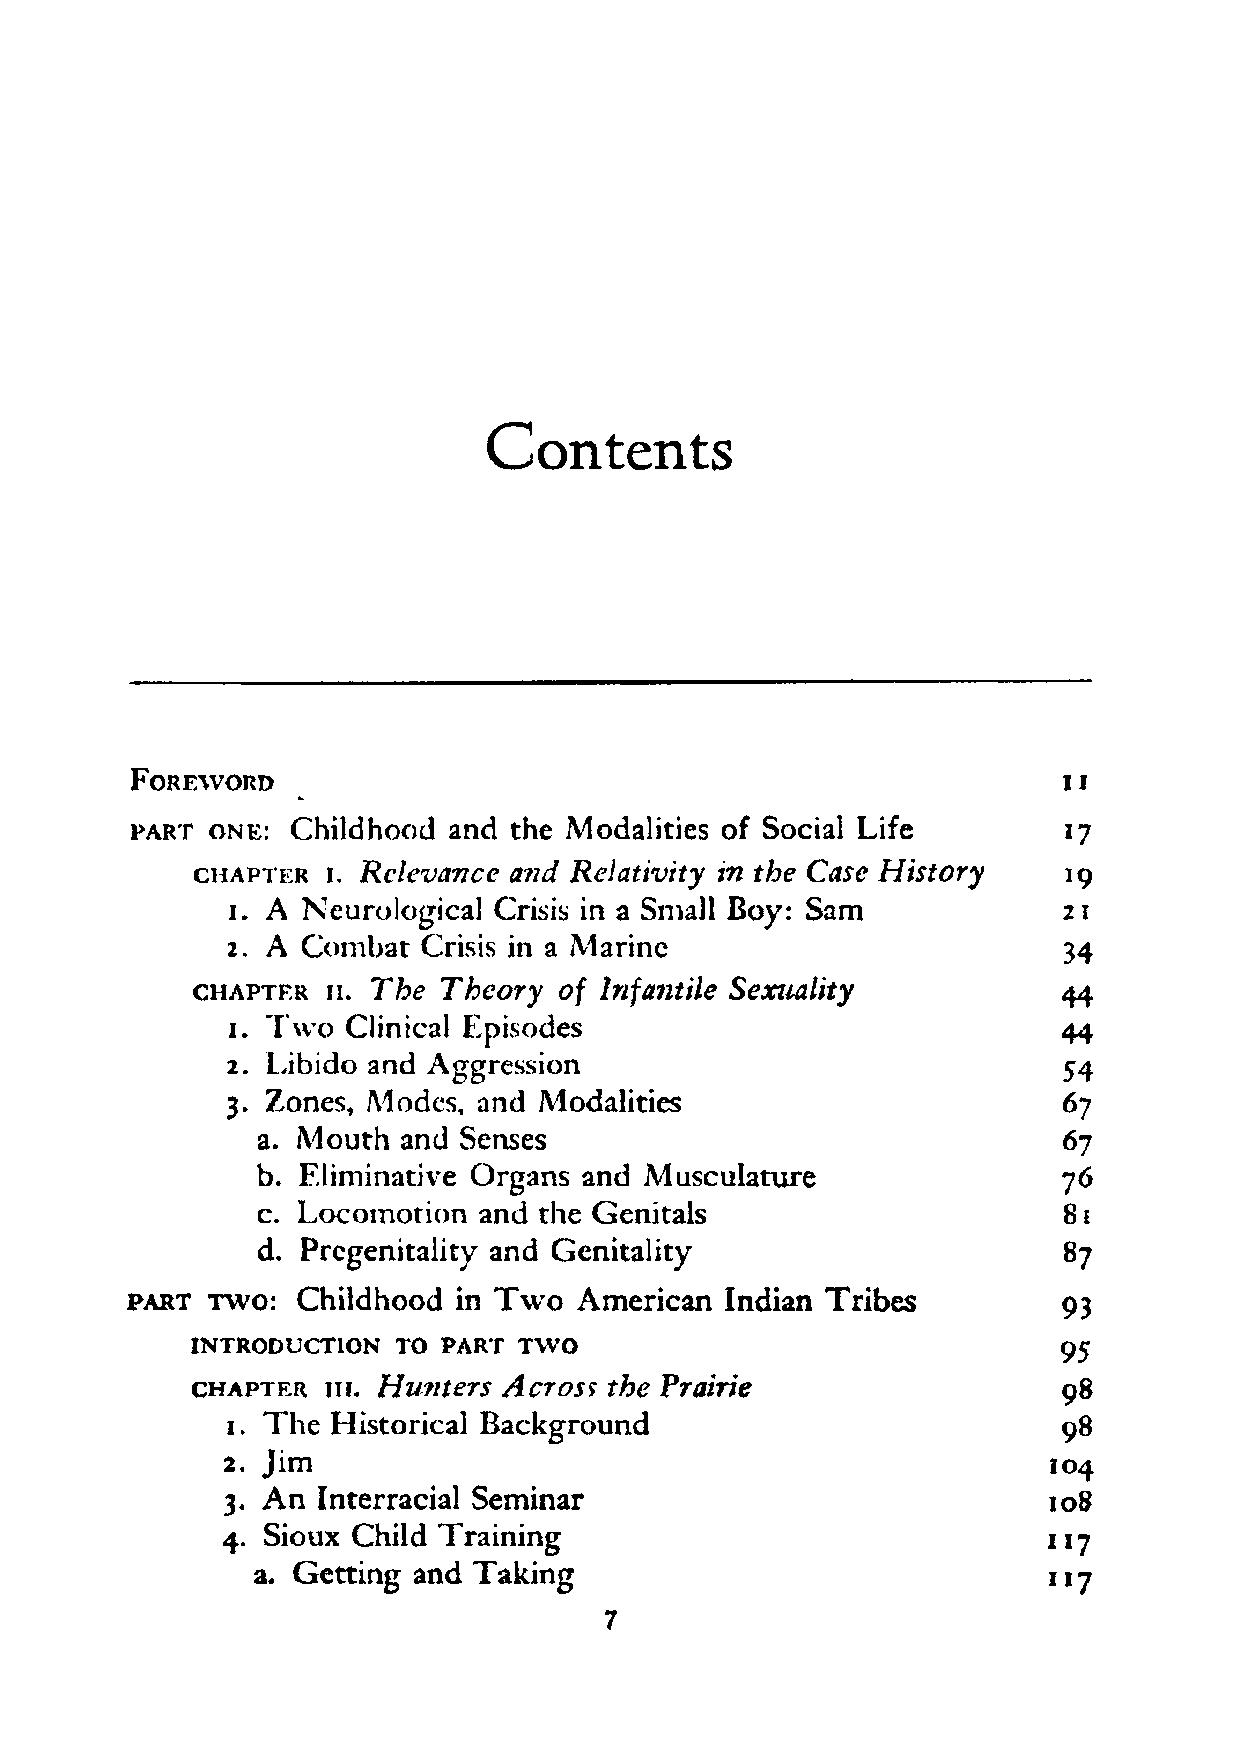TOC_chapter: (119, 1283, 934, 1319), (123, 812, 921, 847), (187, 859, 993, 890), (220, 894, 862, 929), (192, 978, 856, 1005), (254, 1161, 821, 1190), (187, 1376, 756, 1402), (221, 1408, 655, 1443), (221, 1084, 690, 1117), (254, 1233, 696, 1267), (258, 1197, 710, 1229), (221, 1522, 562, 1558), (224, 934, 670, 961), (220, 1484, 586, 1516), (220, 1009, 585, 1041), (246, 1562, 580, 1596), (225, 1048, 586, 1078), (185, 1333, 590, 1355), (254, 1126, 554, 1155), (130, 760, 285, 793), (221, 1445, 322, 1478)
TOC_pagenumber: (1044, 1453, 1096, 1482), (1047, 1486, 1094, 1514), (1045, 1529, 1090, 1557), (1048, 1565, 1088, 1596), (1062, 1236, 1092, 1271), (1059, 1372, 1094, 1402), (1057, 1337, 1095, 1363), (1060, 1412, 1092, 1443), (1063, 1164, 1095, 1193), (1063, 939, 1096, 968), (1063, 1088, 1091, 1119), (1060, 1292, 1091, 1321), (1060, 981, 1092, 1008), (1062, 1129, 1092, 1155), (1062, 1200, 1090, 1228), (1063, 817, 1090, 845), (1062, 862, 1090, 888), (1057, 772, 1090, 794), (1062, 1059, 1094, 1082), (1060, 1021, 1094, 1043), (1057, 899, 1088, 921)
chapter: (478, 413, 737, 476)
